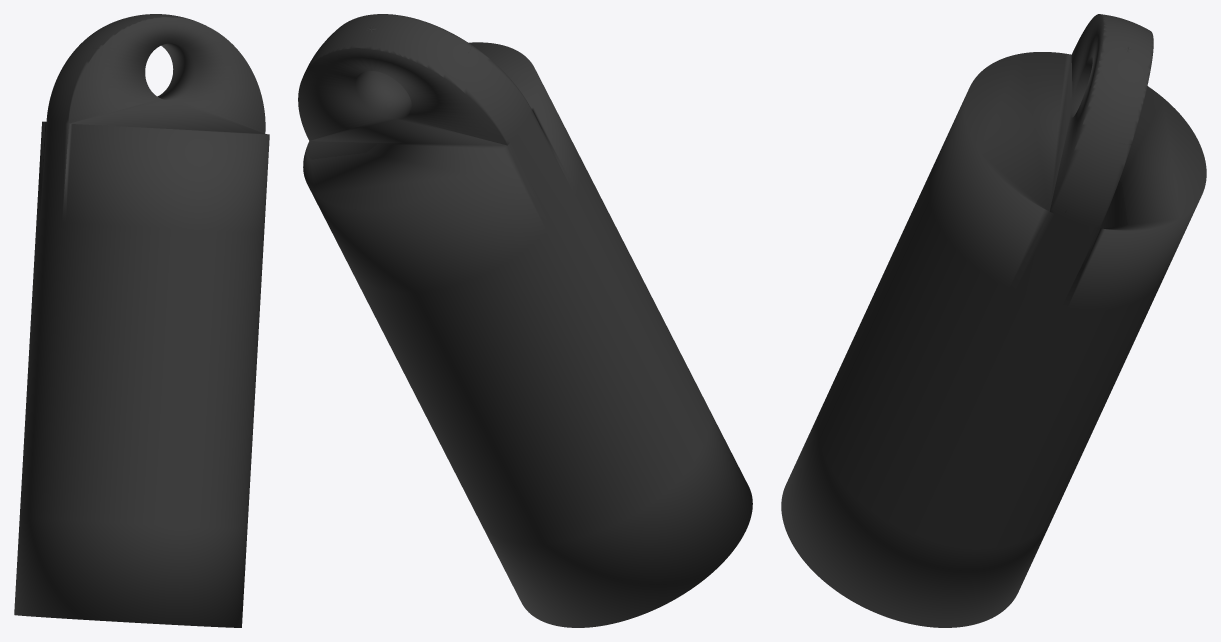
The model's file is chwytak4_P.obj.
3 renders of one model, left to right at view 1: azimuth 30°, elevation 25°; view 2: azimuth 150°, elevation 25°; view 3: azimuth 270°, elevation 25°, orthographic. The views are drawn at different scales.
Visible parts, largest first — view 1: pompa_P; view 2: pompa_P; view 3: pompa_P.
Part boxes in pixels (x1=…): pompa_P: x1=14, y1=14, x2=269, y2=627; pompa_P: x1=298, y1=14, x2=752, y2=627; pompa_P: x1=781, y1=14, x2=1206, y2=627.
Size of the model in its own units: 0.4934 by 0.8571 by 0.5325.
Materials: 1 (1 with a texture image).
